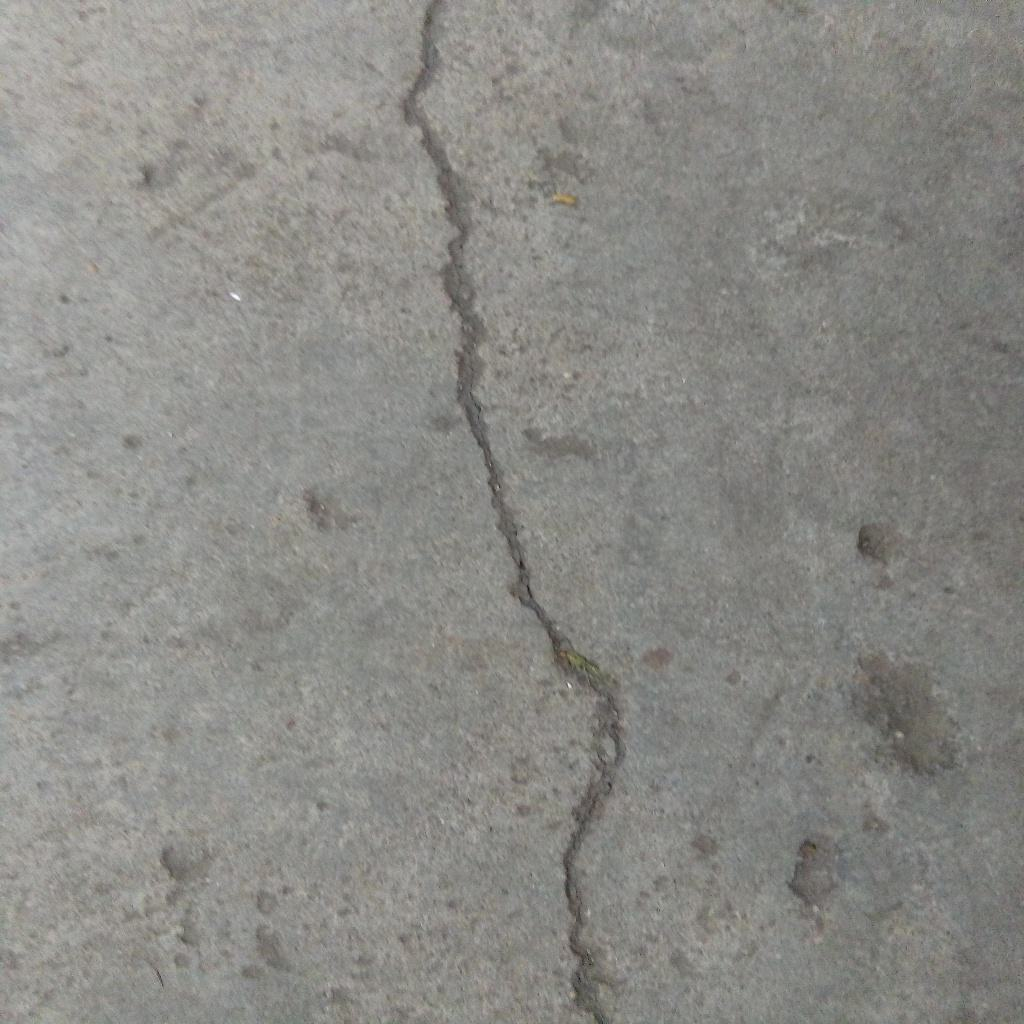Crack: (403, 1, 625, 1024)
Spalling: (849, 647, 965, 774), (787, 831, 845, 944), (856, 518, 902, 566)
